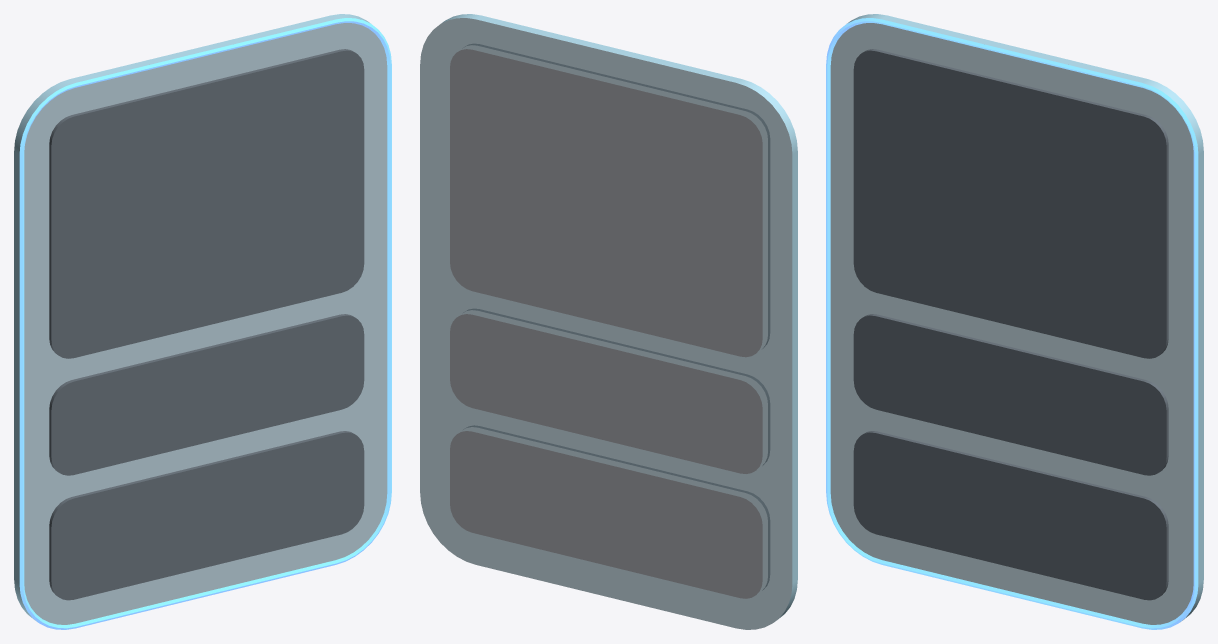
File: flashdrive.glb
3 renders of one model, left to right at view 1: azimuth 30°, elevation 25°; view 2: azimuth 150°, elevation 25°; view 3: azimuth 330°, elevation 25°, orthographic.
Parts seen in each view (by area): view 1: rim-and-slots, glass, accent-line; view 2: glass, rim-and-slots; view 3: rim-and-slots, glass, accent-line.
Boxes of the visible parts, x1,y1,x2,y2 form: rim-and-slots: (14, 14, 370, 620); glass: (24, 23, 387, 624); accent-line: (19, 18, 391, 629); glass: (420, 18, 792, 629); rim-and-slots: (441, 14, 797, 620); rim-and-slots: (847, 14, 1203, 620); glass: (830, 23, 1193, 624); accent-line: (826, 18, 1198, 629).
Size of the model in its own units: 0.2 by 0.28 by 0.00701.
